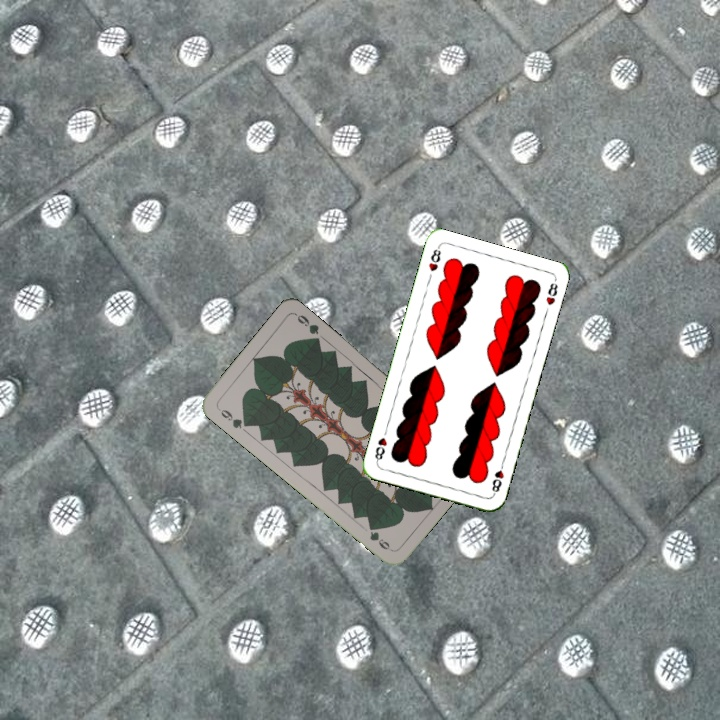G9: (213, 404, 251, 431)
H8: (488, 457, 507, 497), (424, 243, 443, 274)
